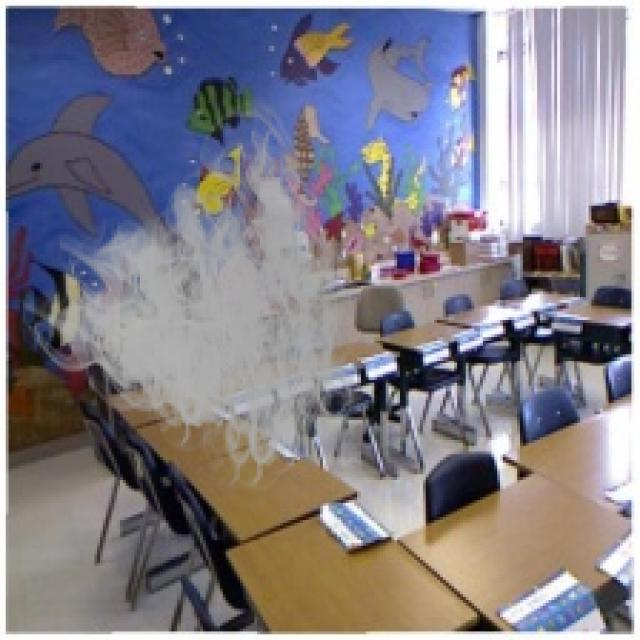smoke: (23, 94, 377, 503)
